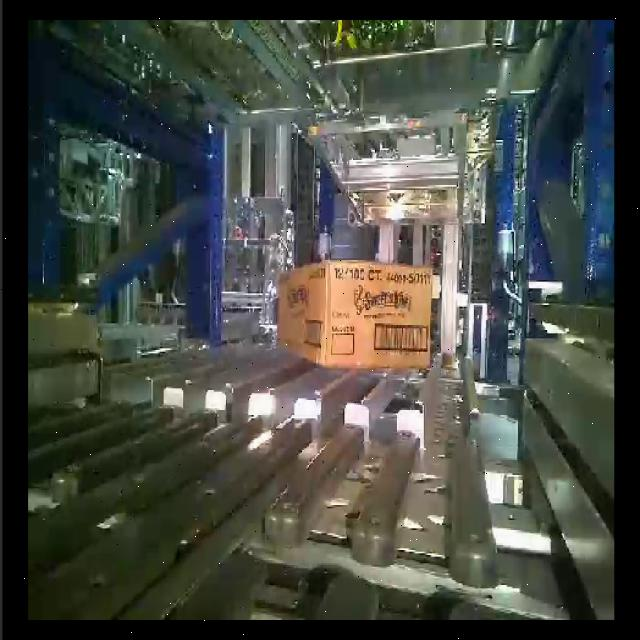box: (275, 259, 331, 368)
